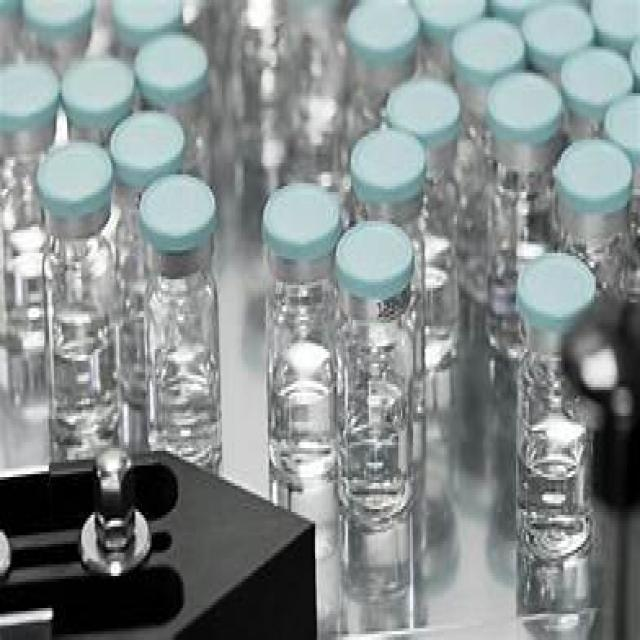vial: (332, 215, 409, 298), (520, 253, 592, 329), (557, 142, 631, 207), (139, 180, 219, 240), (487, 77, 564, 139), (386, 79, 467, 137), (352, 132, 428, 193), (40, 146, 112, 206), (267, 188, 332, 253), (347, 0, 426, 53), (456, 21, 524, 82), (112, 120, 186, 176), (65, 60, 136, 118), (561, 53, 627, 108), (112, 0, 191, 45), (140, 43, 212, 92), (527, 5, 590, 57), (0, 67, 60, 120), (27, 0, 92, 34), (593, 0, 640, 39), (417, 0, 479, 27), (608, 98, 640, 150), (623, 31, 640, 116), (0, 0, 24, 21)
